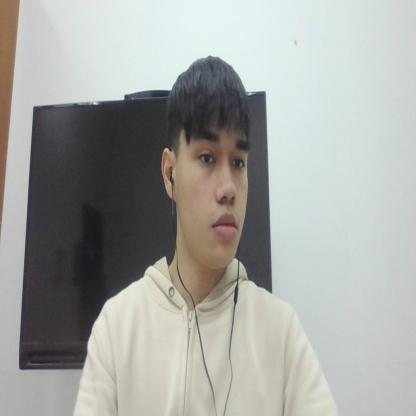Open-Eyes: (187, 122, 250, 189)
